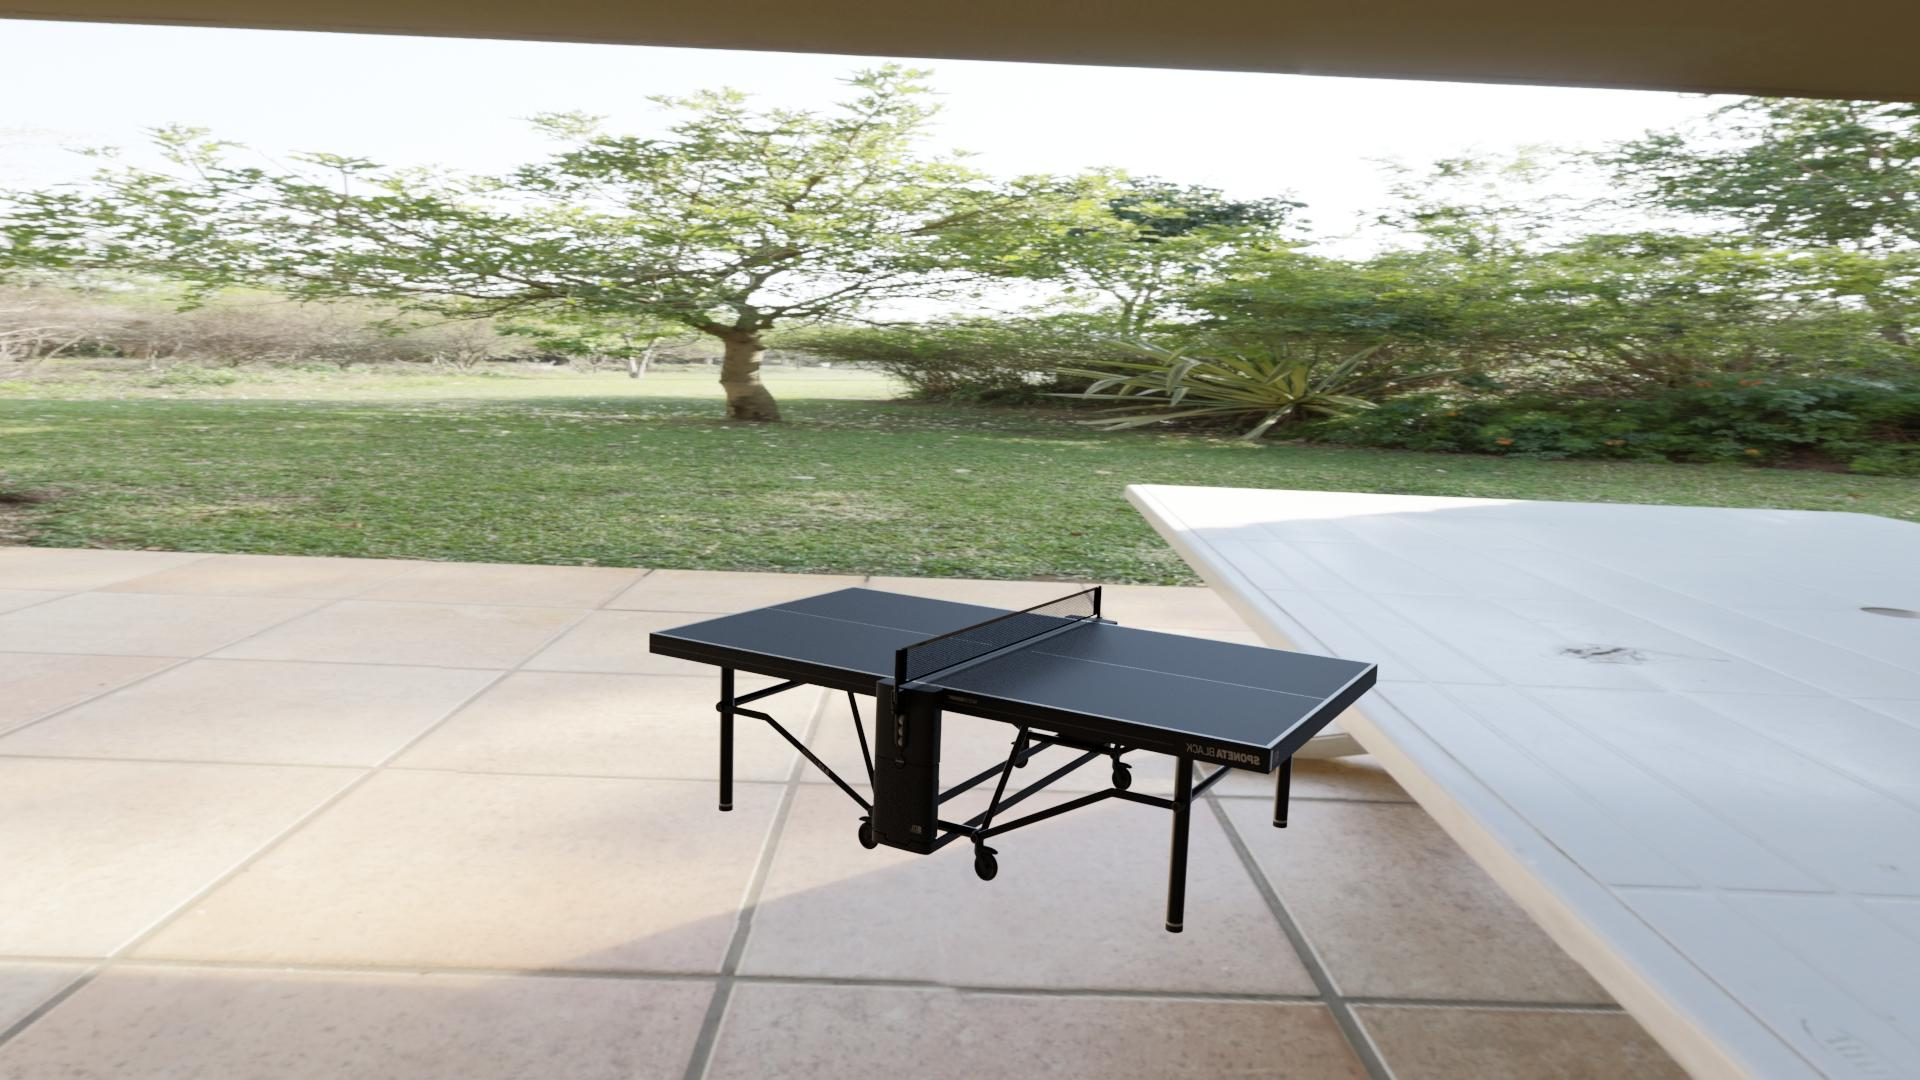table: (655, 587, 1373, 746)
